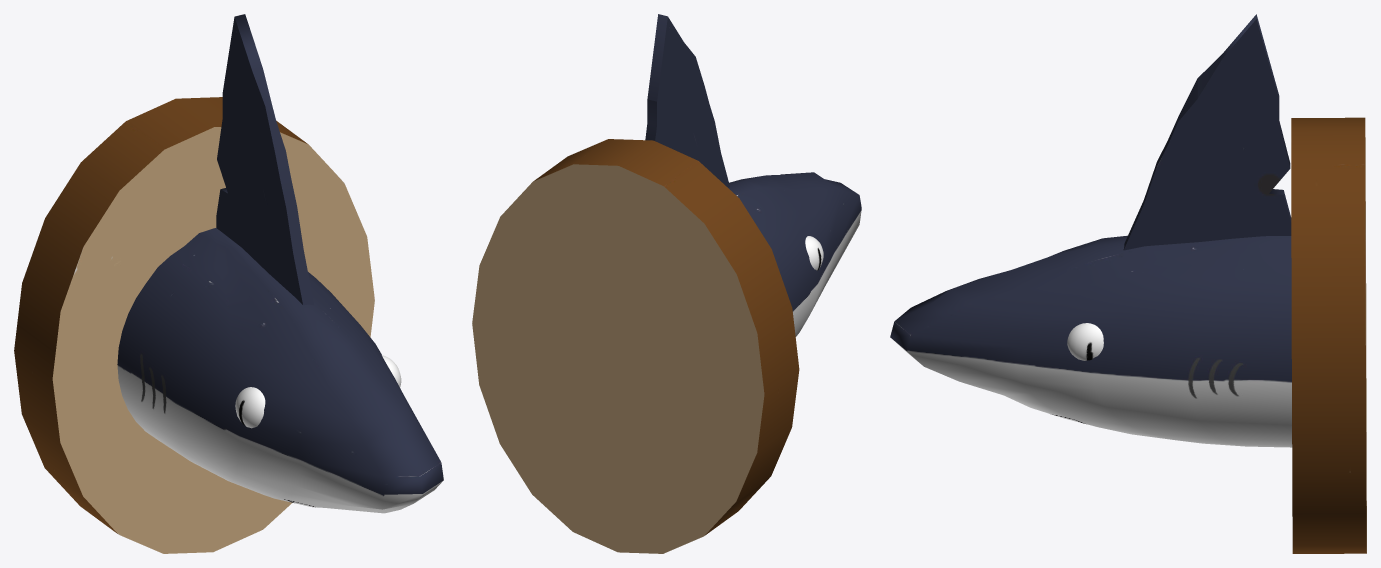
Rendered from wallArtShark.fbx.
3 renders of one model, left to right at view 1: azimuth 30°, elevation 25°; view 2: azimuth 150°, elevation 25°; view 3: azimuth 270°, elevation 25°, orthographic. The views are drawn at different scales.
Parts seen in each view (by area): view 1: pSphere4; view 2: pSphere4; view 3: pSphere4.
Boxes of the visible parts, x1,y1,x2,y2 form: pSphere4: (14, 14, 443, 553); pSphere4: (472, 14, 861, 553); pSphere4: (890, 14, 1366, 553).
Bounding box in the file's own units: 3.16 × 5.15 × 4.22.
Materials: 1 (1 with a texture image).
